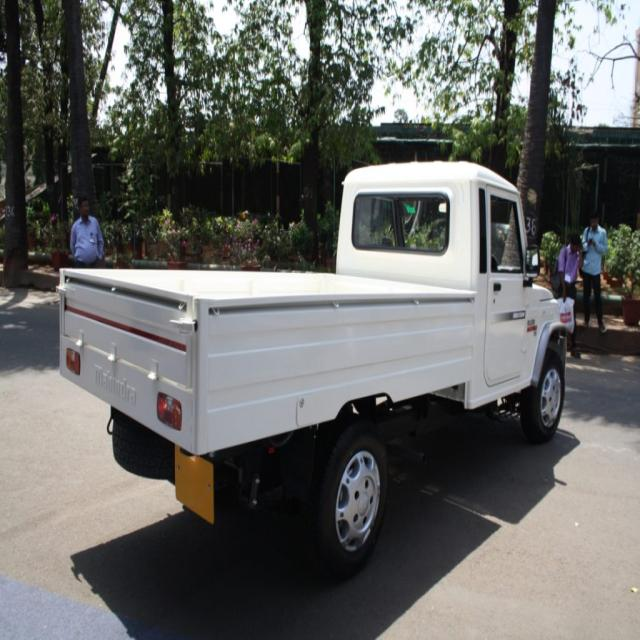truck: (60, 161, 565, 577)
